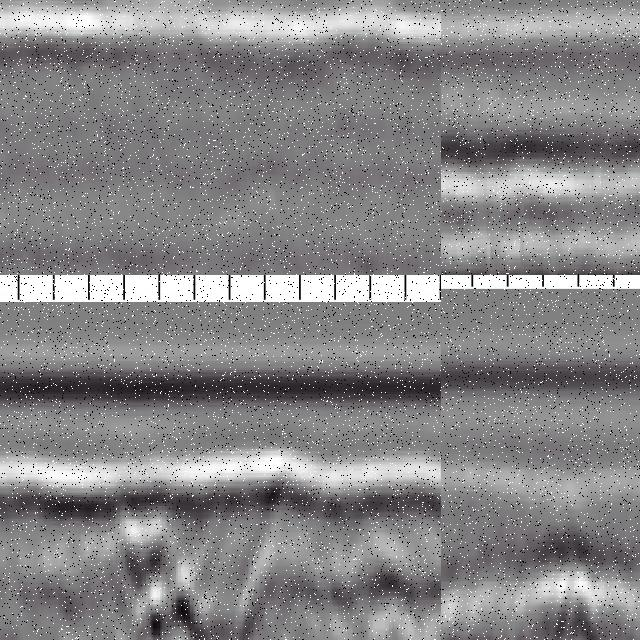loose: (45, 449, 442, 640), (442, 525, 640, 640)
